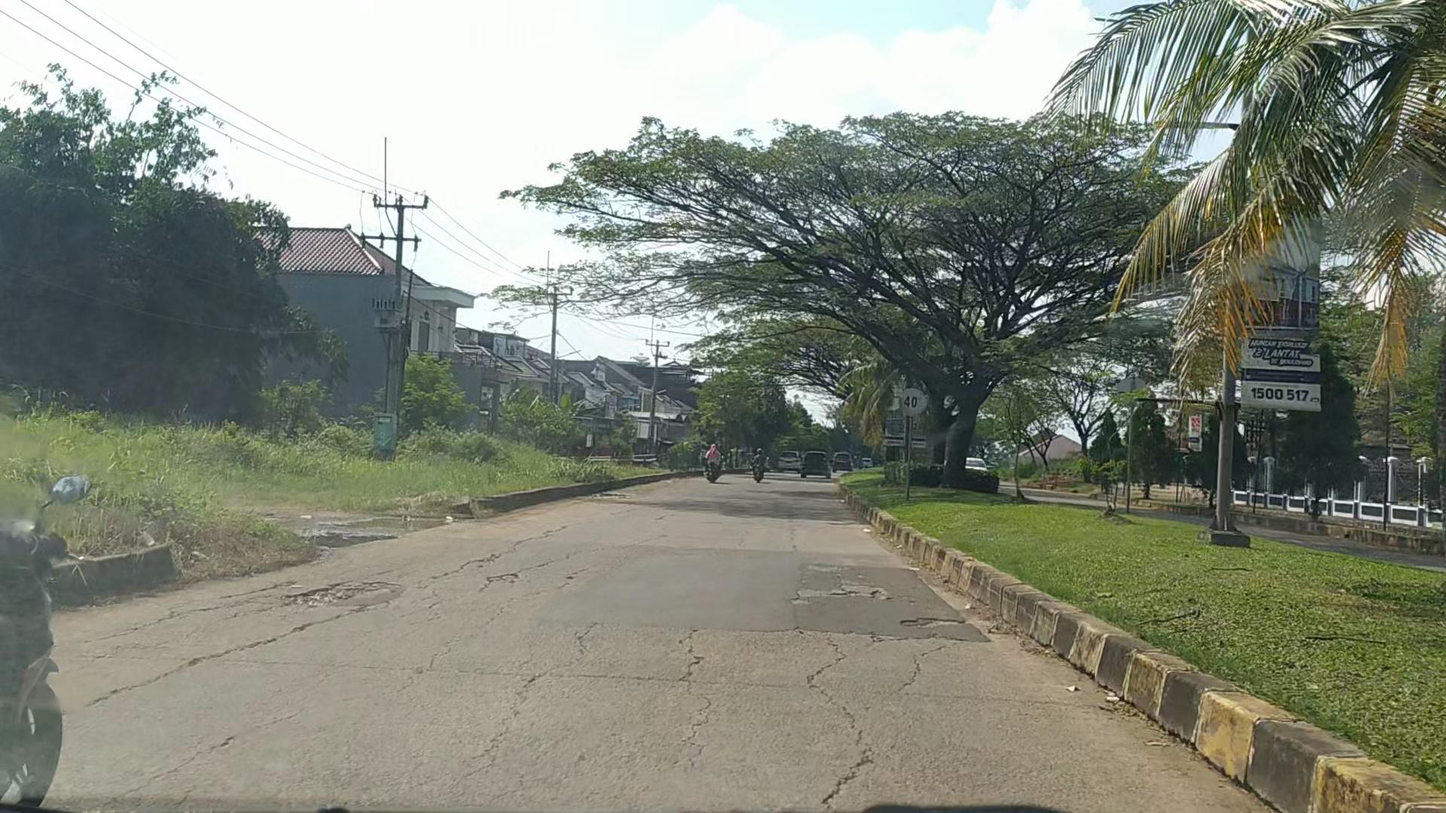pothole: (282, 579, 399, 611), (792, 581, 894, 603), (894, 615, 971, 630)
